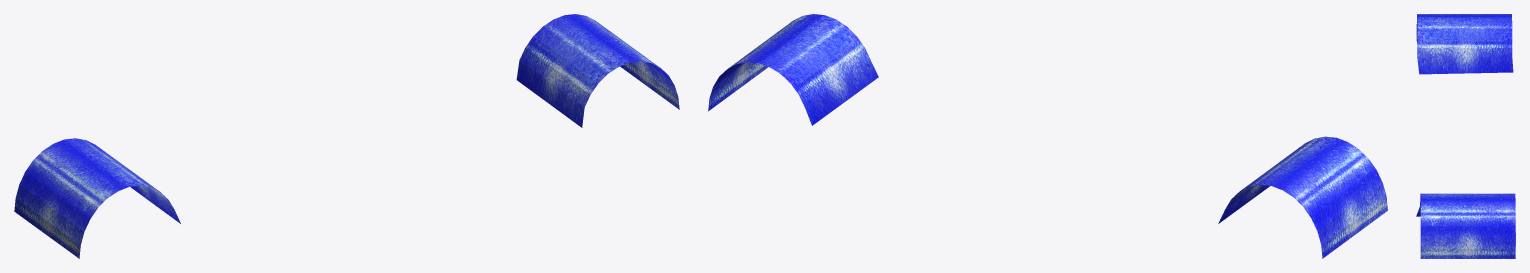
3 renders of one model, left to right at view 1: azimuth 30°, elevation 25°; view 2: azimuth 150°, elevation 25°; view 3: azimuth 270°, elevation 25°, orthographic. The views are drawn at different scales.
Bounding box in the file's own units: 0.8008 × 0.0759 × 0.1564.
1 material, 1 textured.
